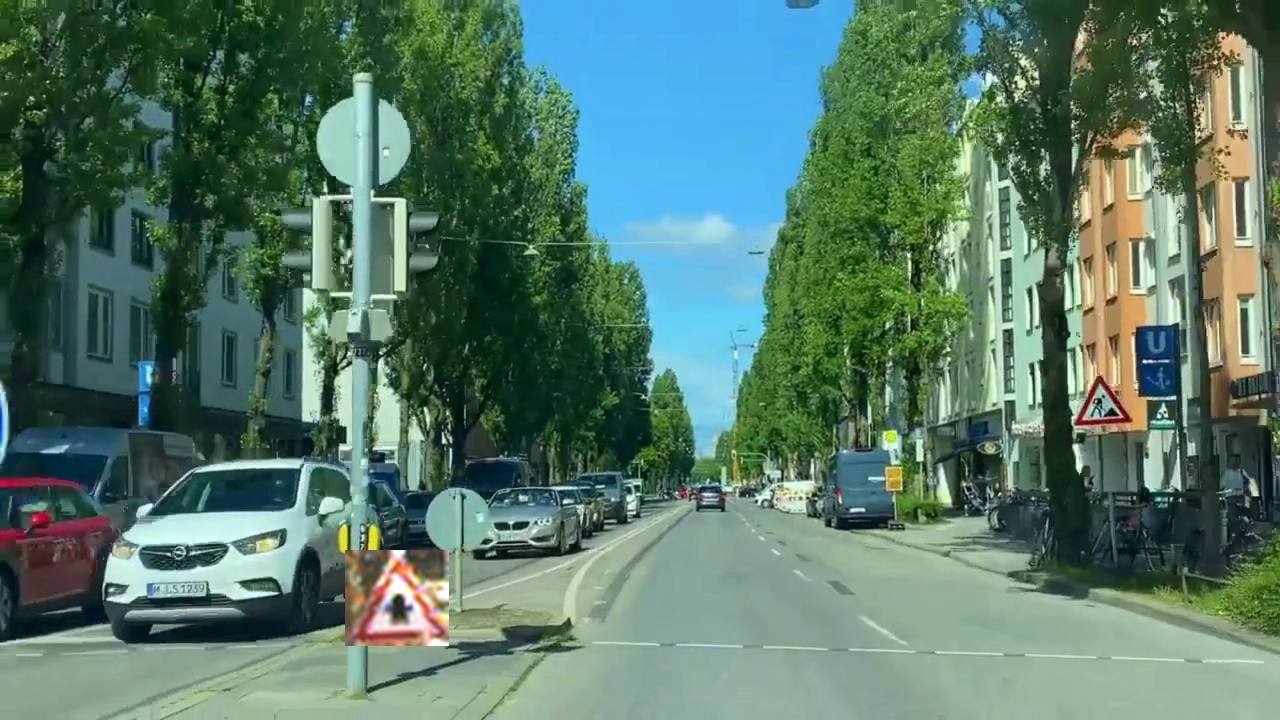Right-of-way: (345, 550, 449, 646)
